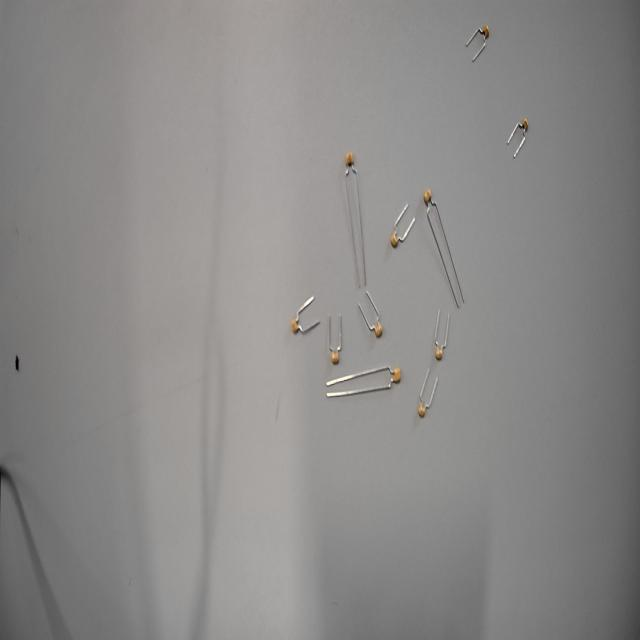capacitor: (506, 98, 543, 148), (471, 4, 504, 59), (281, 298, 311, 351), (338, 133, 365, 189), (364, 305, 391, 353), (384, 213, 411, 260), (414, 175, 442, 220), (323, 334, 349, 377), (411, 384, 433, 428), (430, 328, 451, 372), (385, 356, 408, 396)
